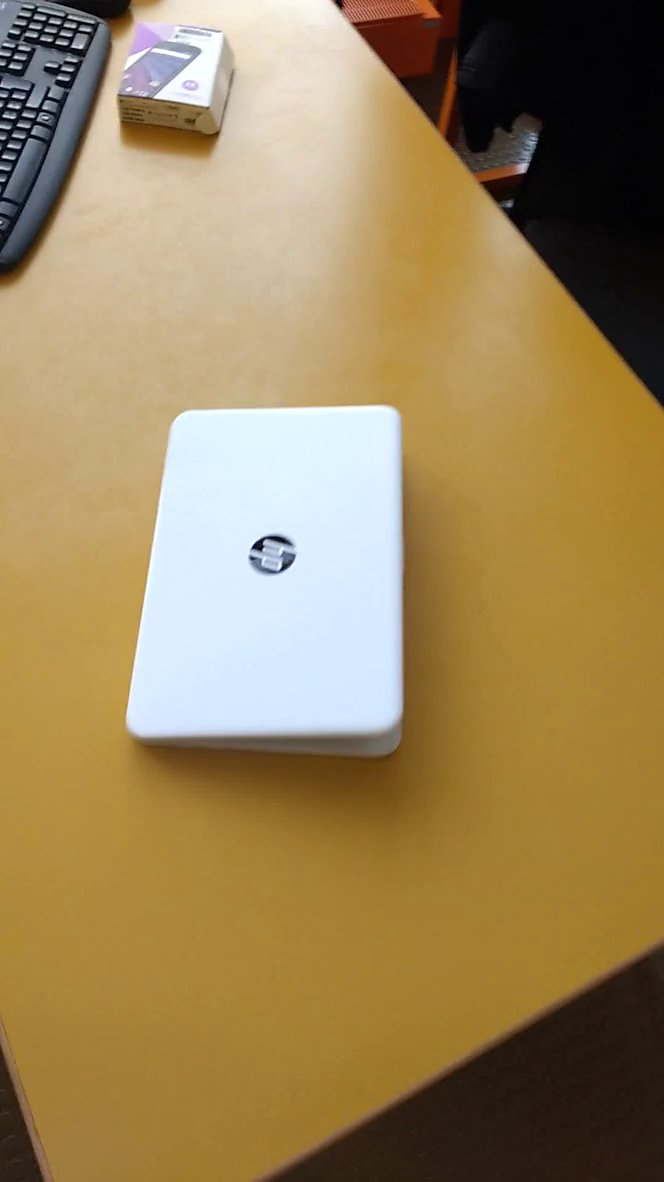laptop: (118, 395, 444, 783)
